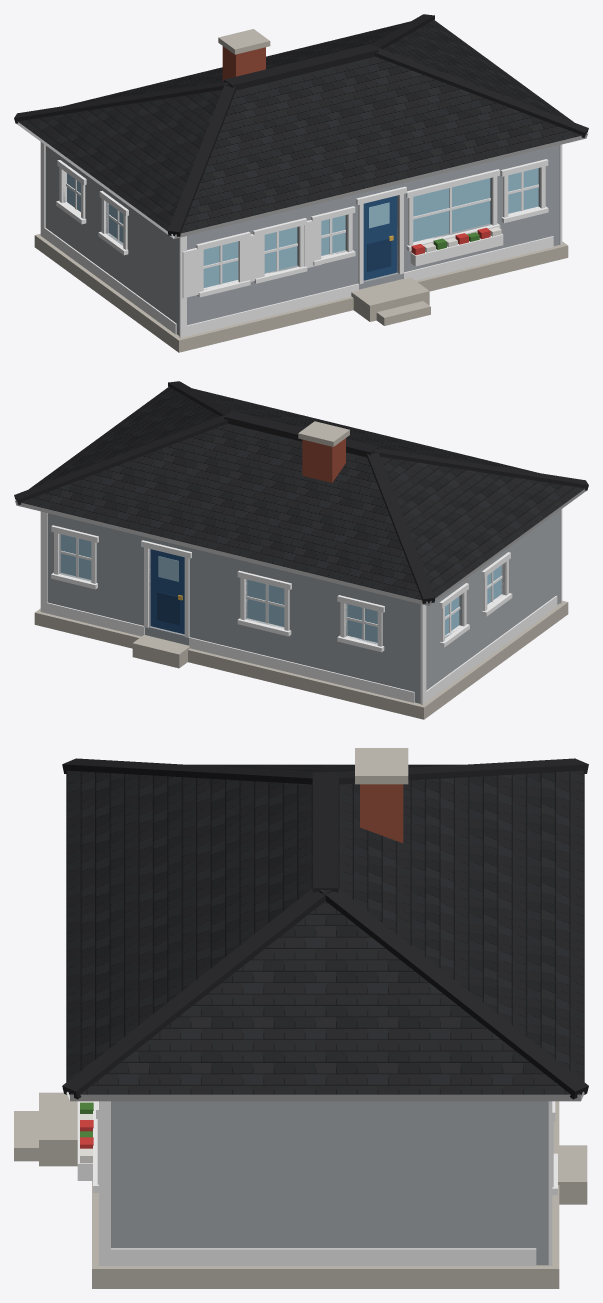
The model's file is base-02-level1.glb.
3 views of the same model, one above another, from view 1: azimuth 30°, elevation 25°; view 2: azimuth 150°, elevation 25°; view 3: azimuth 270°, elevation 25° (orthographic). The views are drawn at different scales.
Parts seen in each view (by area): view 1: base_house_2_finished; view 2: base_house_2_finished; view 3: base_house_2_finished.
Boxes of the visible parts, bbox=[...] form: base_house_2_finished: bbox=[14, 14, 588, 352]; base_house_2_finished: bbox=[14, 381, 588, 719]; base_house_2_finished: bbox=[14, 748, 588, 1288].
Size of the model in its own units: 12.65 by 6.04 by 9.23.
Materials: 15 (1 with a texture image).
